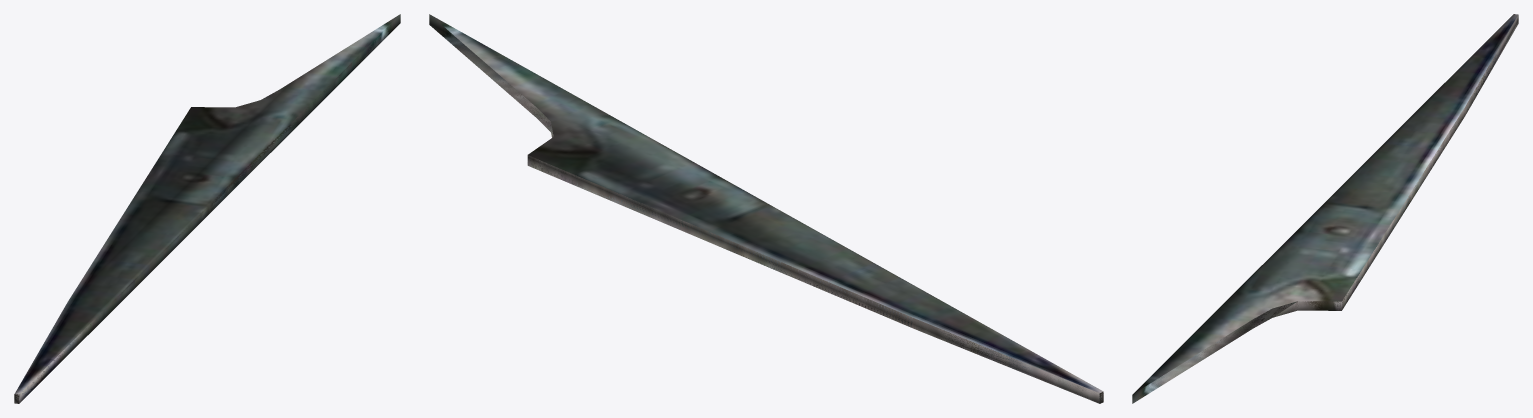
The picture shows the model from 3 angles, left to right: view 1: azimuth 90°, elevation 25°; view 2: azimuth 150°, elevation 25°; view 3: azimuth 270°, elevation 25°; orthographic projection. The views are drawn at different scales.
Bounding box in the file's own units: 1.36 × 0.0156 × 0.584.
